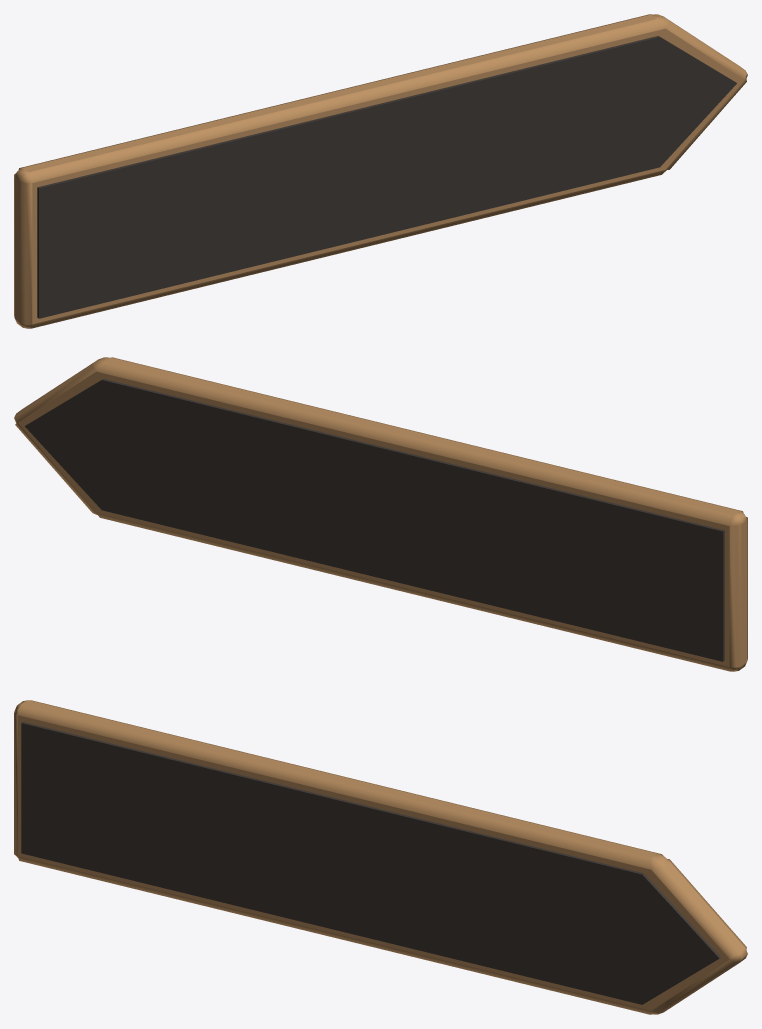
The model's file is sign_arm.glb.
3 renders of one model, top to bottom at view 1: azimuth 30°, elevation 25°; view 2: azimuth 150°, elevation 25°; view 3: azimuth 330°, elevation 25°, orthographic.
Parts seen in each view (by area): view 1: body; view 2: body; view 3: body.
Boxes of the visible parts, box(x1,y1,x2,y2) form: body: box(14, 14, 747, 328); body: box(14, 357, 747, 671); body: box(14, 700, 747, 1014).
Bounding box in the file's own units: 3.5 × 0.72 × 0.148.
